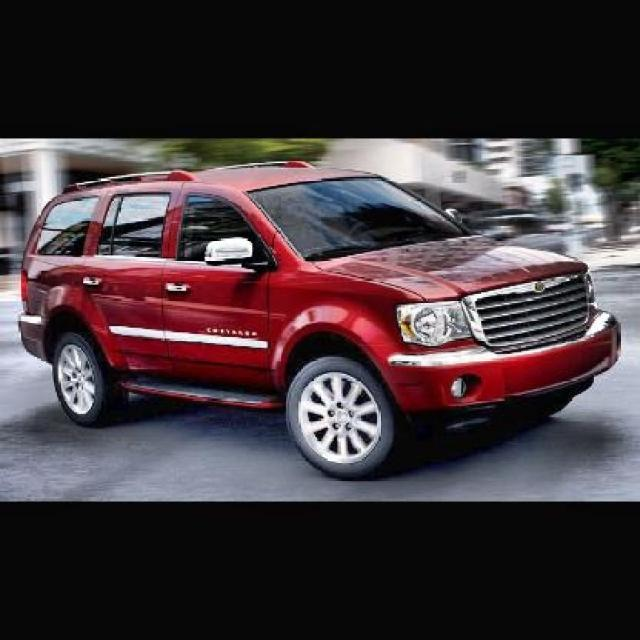maroon: (19, 160, 604, 434)
